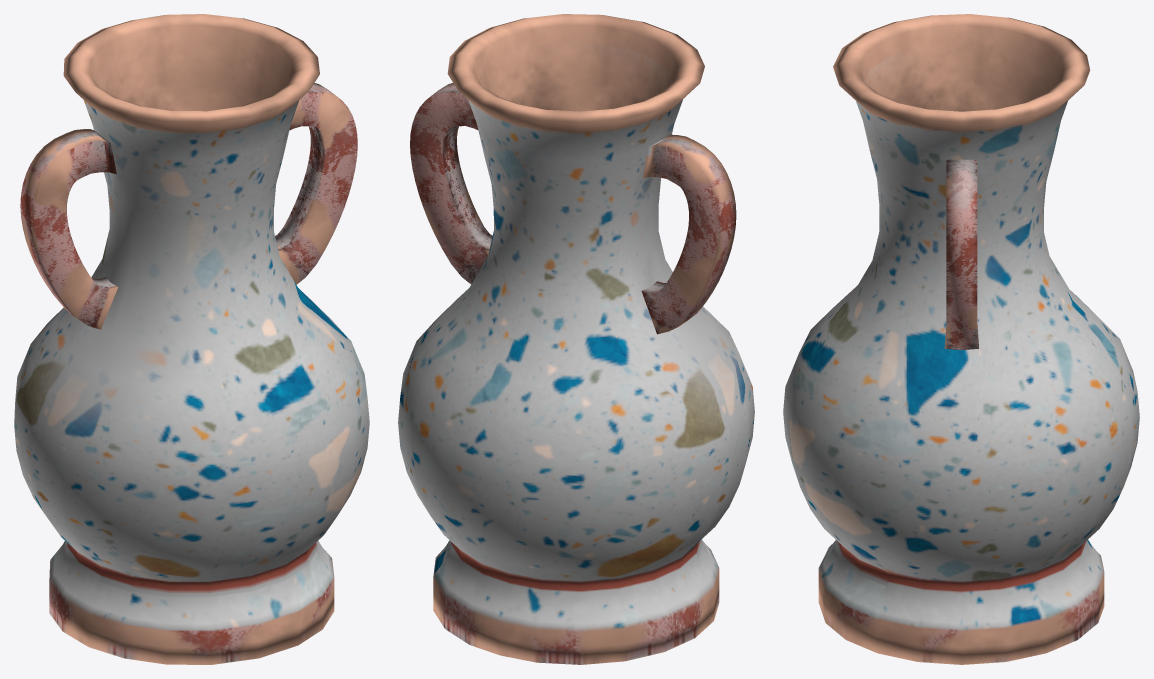
Rendered from Tubo.fbx.
3 renders of one model, left to right at view 1: azimuth 30°, elevation 25°; view 2: azimuth 150°, elevation 25°; view 3: azimuth 270°, elevation 25°, orthographic.
Visible parts, largest first — view 1: pSphere1; view 2: pSphere1; view 3: pSphere1.
Boxes of the visible parts, x1=… form: pSphere1: x1=14, y1=14, x2=369, y2=664; pSphere1: x1=398, y1=14, x2=754, y2=664; pSphere1: x1=783, y1=14, x2=1139, y2=664.
Bounding box in the file's own units: 39.11 × 63.7 × 38.02.
